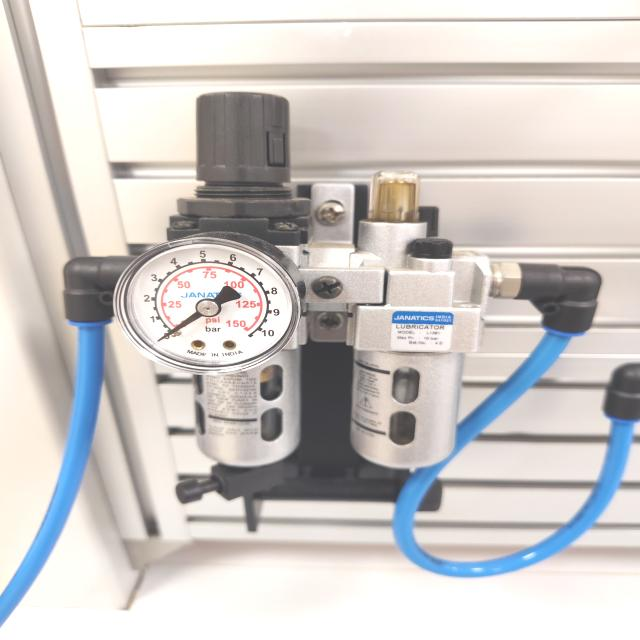FRL unit: (52, 81, 608, 518)
push button: (111, 231, 302, 375)
